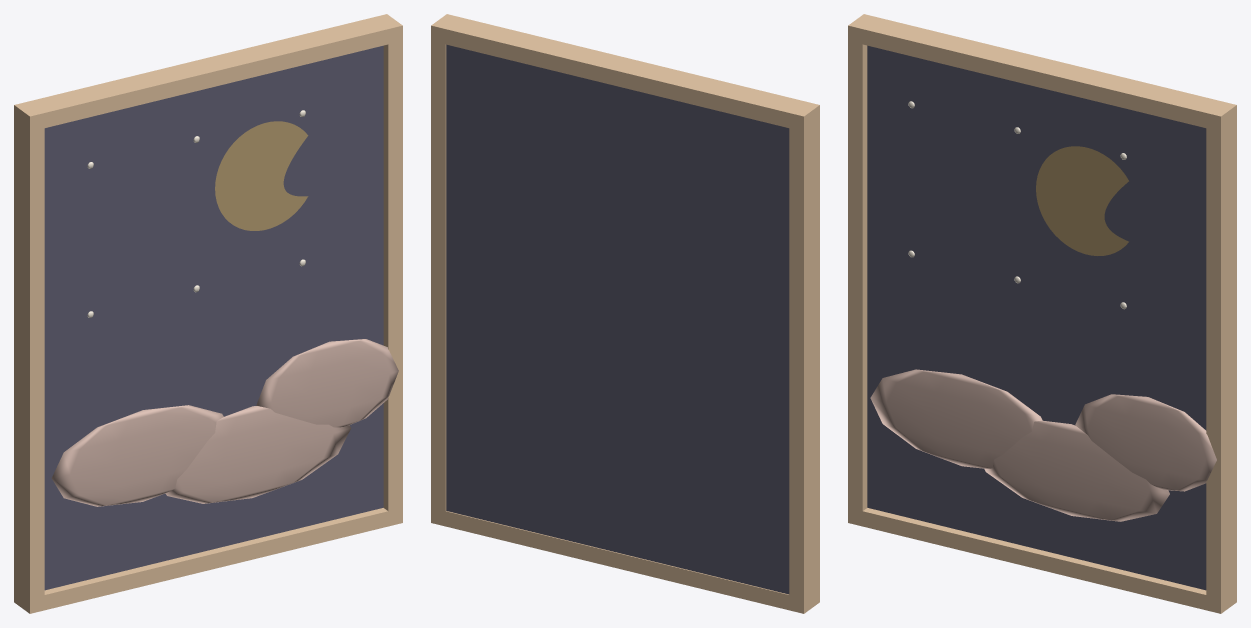
Rendered from bedroom_ref_moon_art.glb.
3 views of the same model, side by side, from view 1: azimuth 30°, elevation 25°; view 2: azimuth 150°, elevation 25°; view 3: azimuth 330°, elevation 25° (orthographic).
Bounding box in the file's own units: 1.02 × 1.3 × 0.0821.
